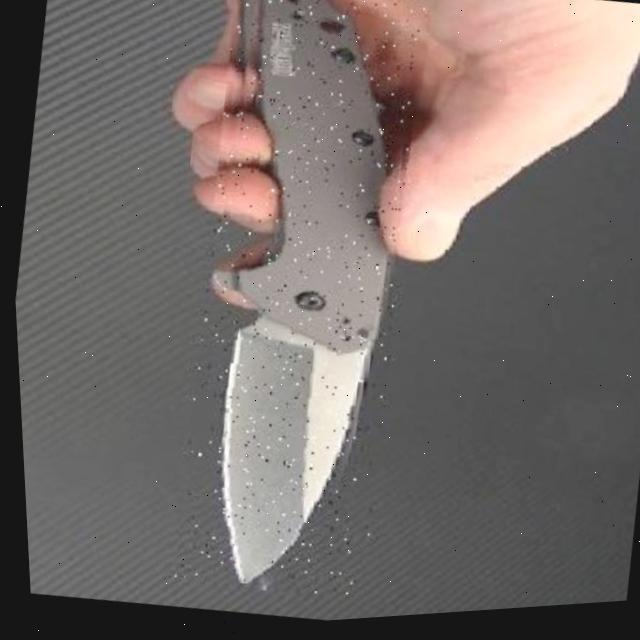knife: (143, 0, 450, 614)
